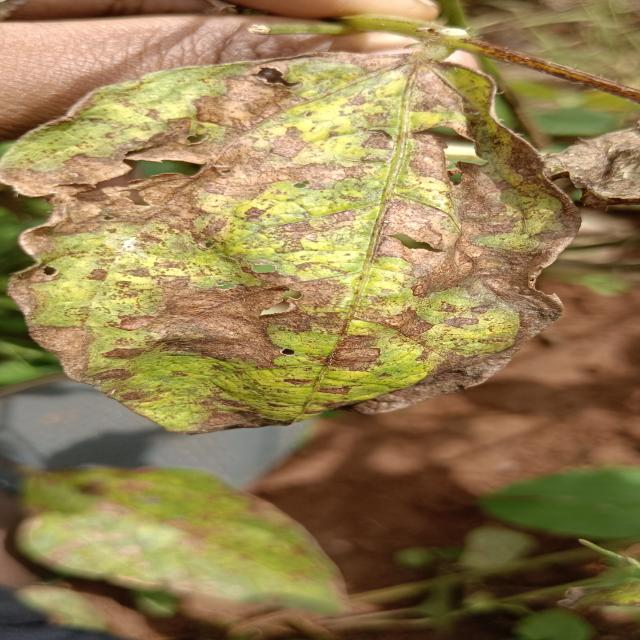Black gram_leaf spot: (0, 30, 610, 445), (0, 463, 353, 609)
